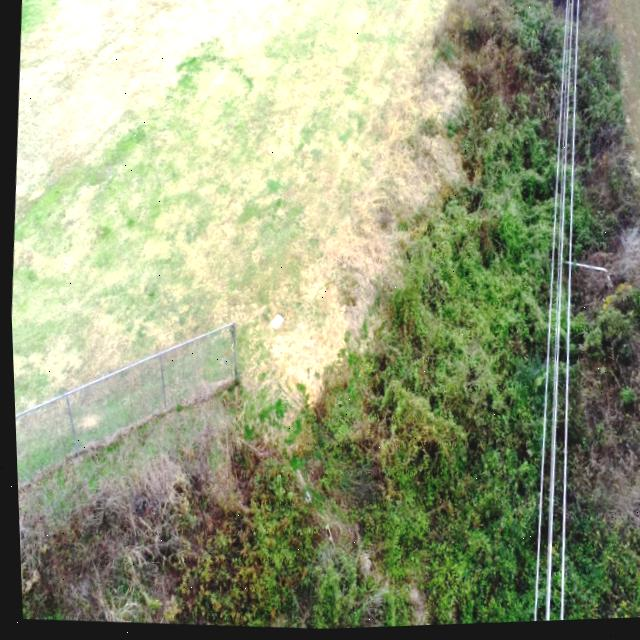wires: (528, 0, 604, 625)
